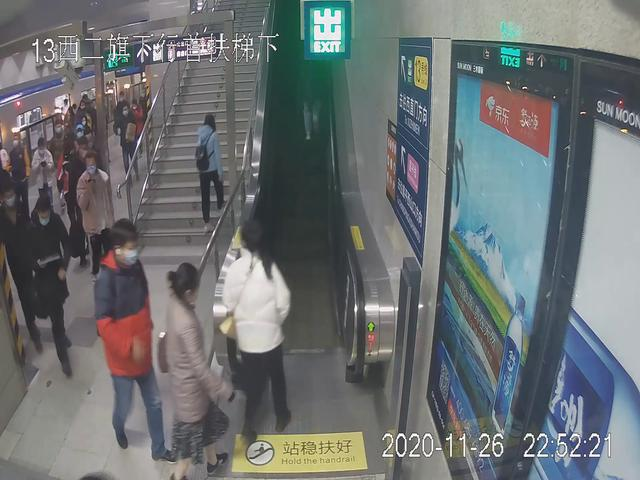person: (88, 218, 173, 464), (220, 222, 301, 444), (158, 257, 233, 480), (23, 197, 70, 379), (75, 151, 117, 275), (196, 115, 229, 219), (31, 136, 54, 217)
